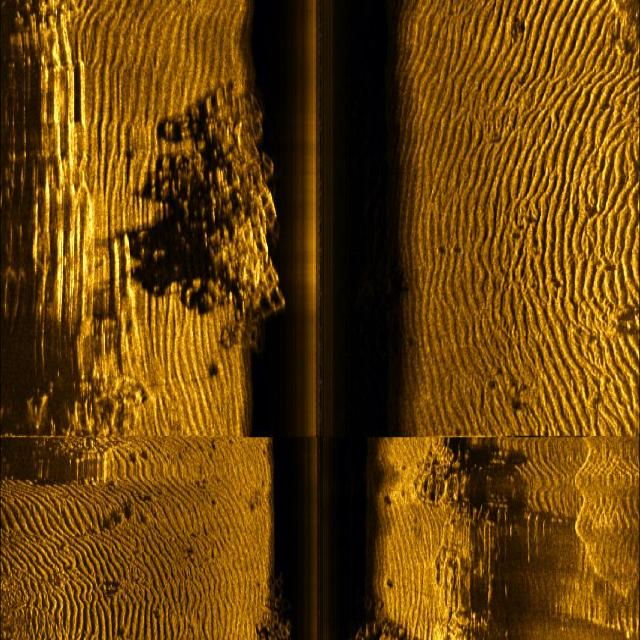artificial reef: (160, 74, 288, 347), (252, 562, 290, 640)
